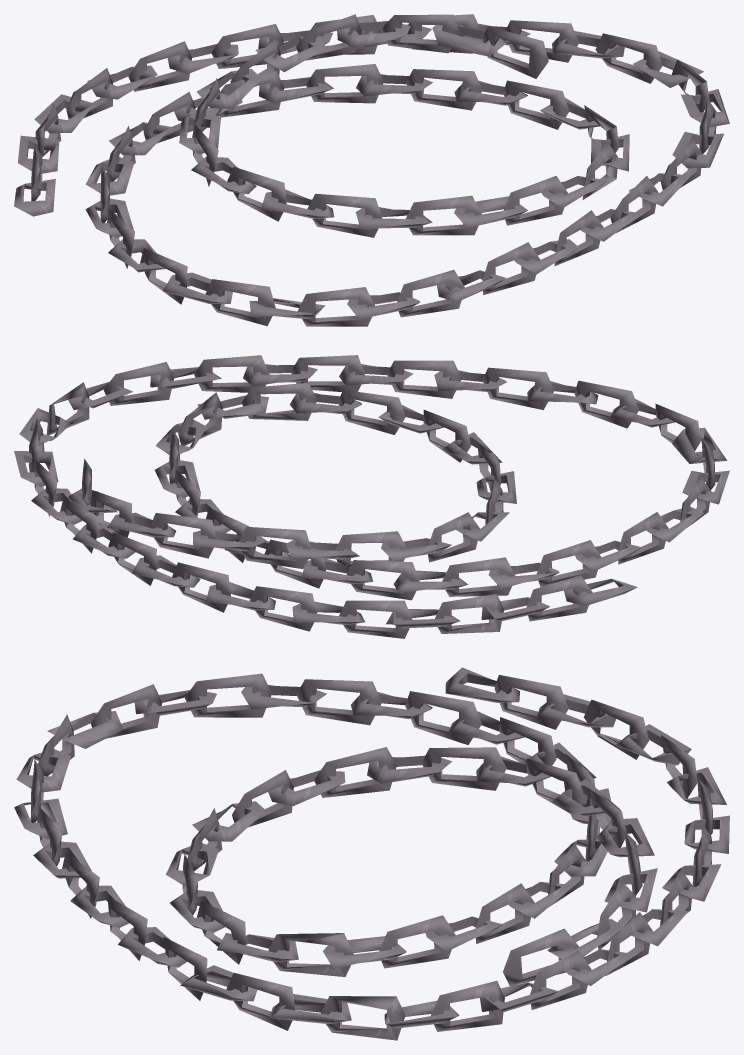
The model's file is Chain_Coil.gltf.
The picture shows the model from 3 angles, top to bottom: view 1: azimuth 30°, elevation 25°; view 2: azimuth 150°, elevation 25°; view 3: azimuth 270°, elevation 25°; orthographic projection. The views are drawn at different scales.
Parts seen in each view (by area): view 1: Chain_Coil; view 2: Chain_Coil; view 3: Chain_Coil.
Part boxes in pixels (x1=…): Chain_Coil: x1=14, y1=14, x2=729, y2=326; Chain_Coil: x1=14, y1=355, x2=729, y2=638; Chain_Coil: x1=14, y1=667, x2=729, y2=1040.
Size of the model in its own units: 1.07 by 0.0866 by 0.9077.
Materials: 1 (1 with a texture image).
